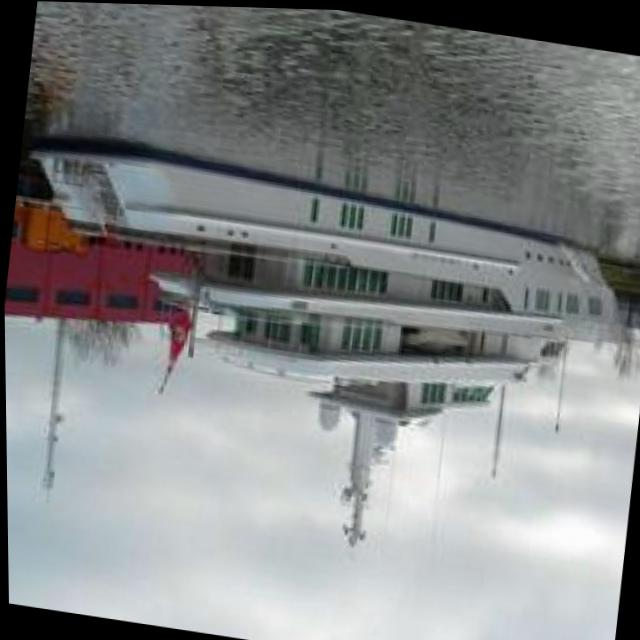ship2: (27, 132, 620, 540)
